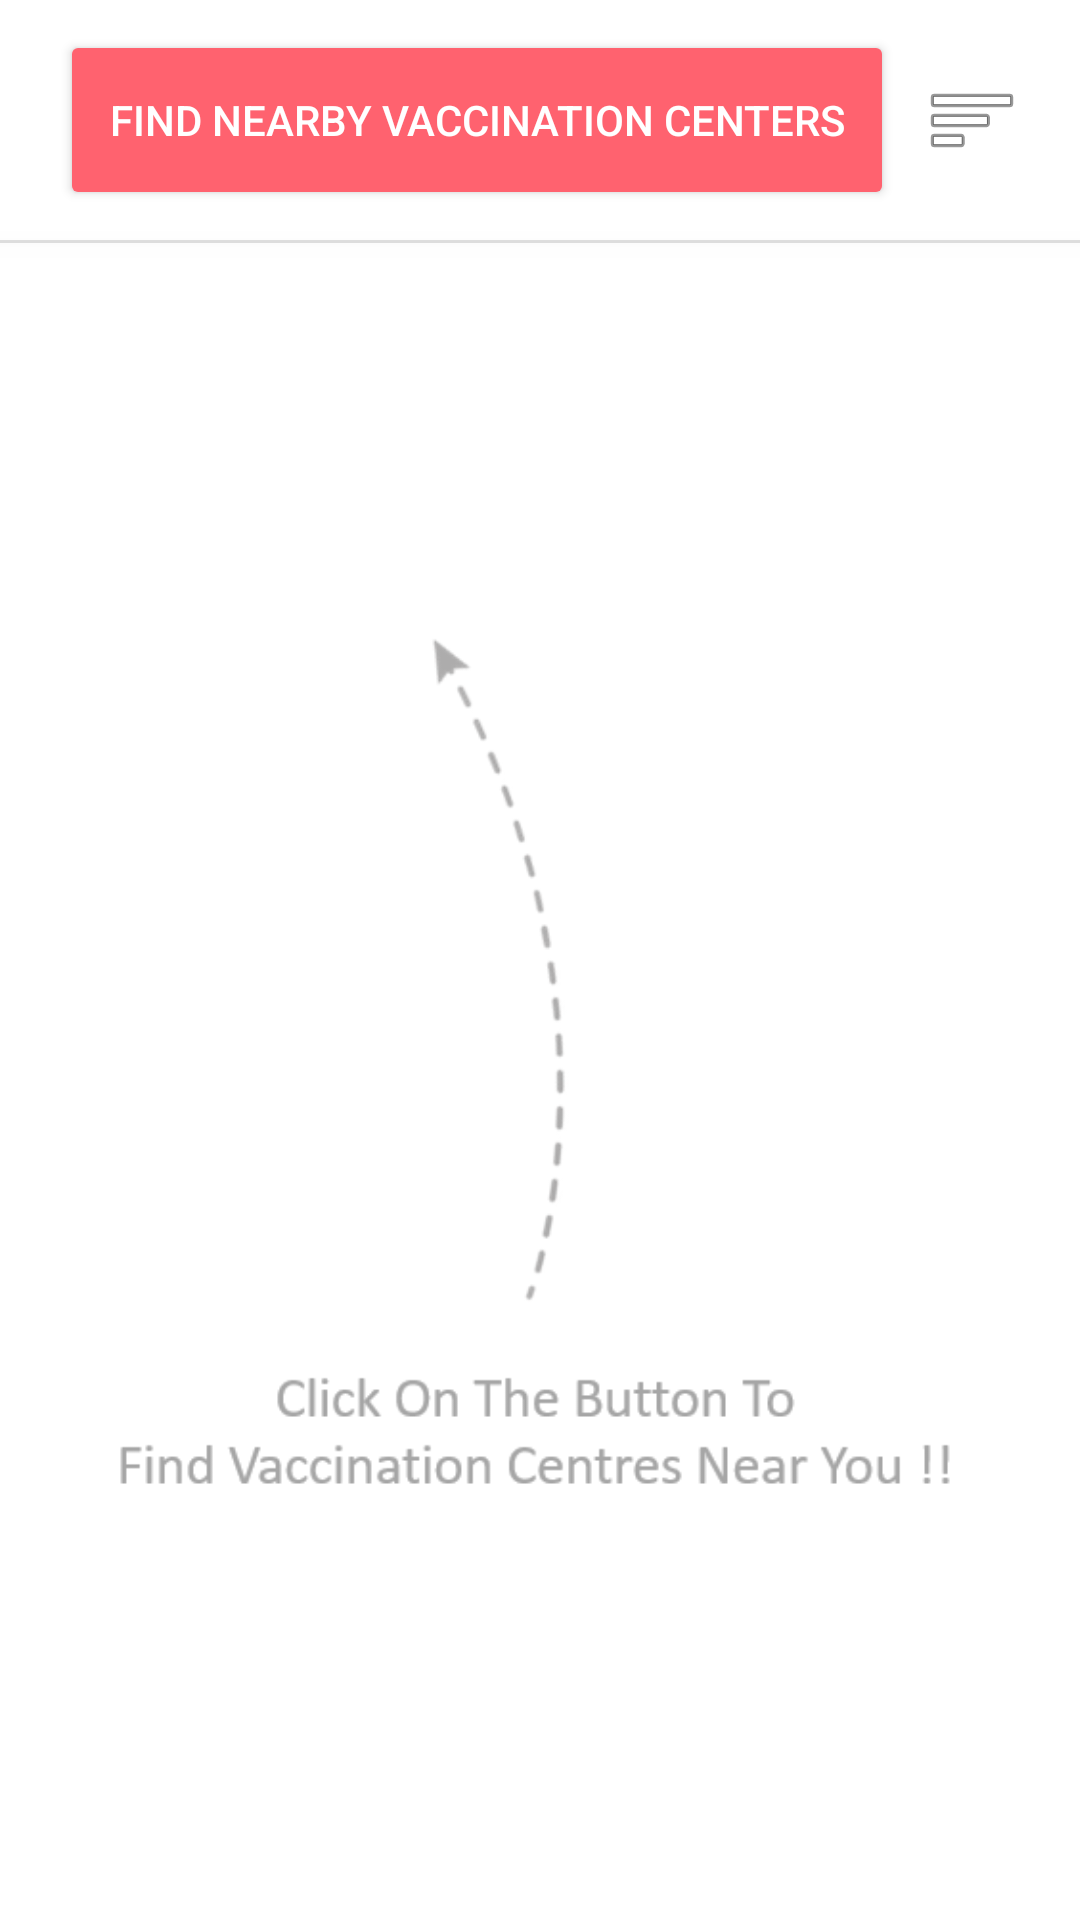

Icon click points for this 1080px x 1920px phone screenshot, format (x,y):
sort by size: (972,120)
